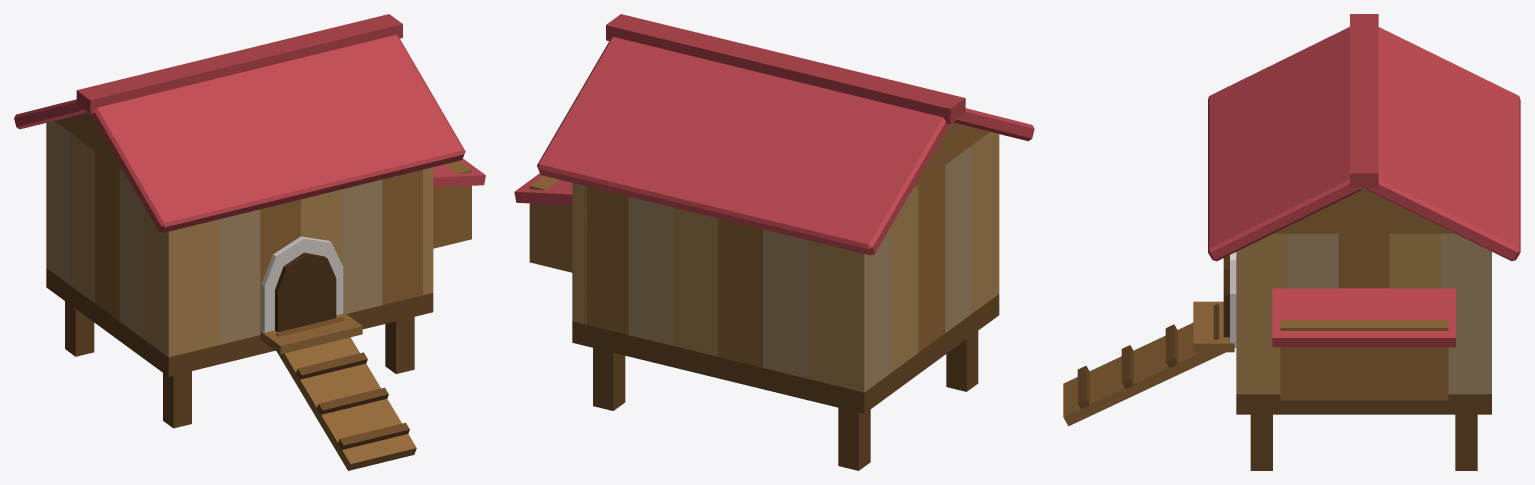
File: chicken_coop.glb
3 renders of one model, left to right at view 1: azimuth 30°, elevation 25°; view 2: azimuth 150°, elevation 25°; view 3: azimuth 270°, elevation 25°, orthographic. The views are drawn at different scales.
Parts seen in each view (by area): view 1: ChickenCoop; view 2: ChickenCoop; view 3: ChickenCoop.
Part boxes in pixels (x1,y1,x2,y2): ChickenCoop: (14,14,485,470); ChickenCoop: (514,14,1034,470); ChickenCoop: (1063,14,1520,470).
Bounding box in the file's own units: 2.71 × 2.18 × 2.86.
